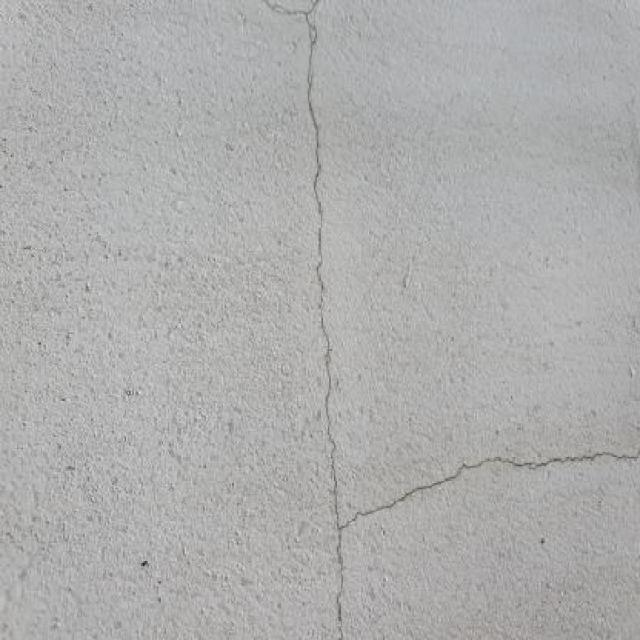GRIETA: (264, 0, 343, 639), (341, 448, 639, 529)
